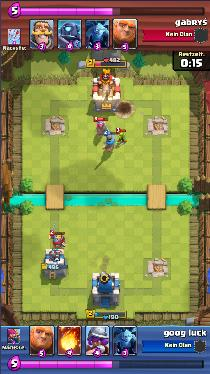ally_knight: (101, 133, 115, 153)
enemy_goblin: (117, 130, 127, 146)
enemy_knight: (49, 224, 66, 248)
enemy_musketeer: (95, 118, 107, 135)
